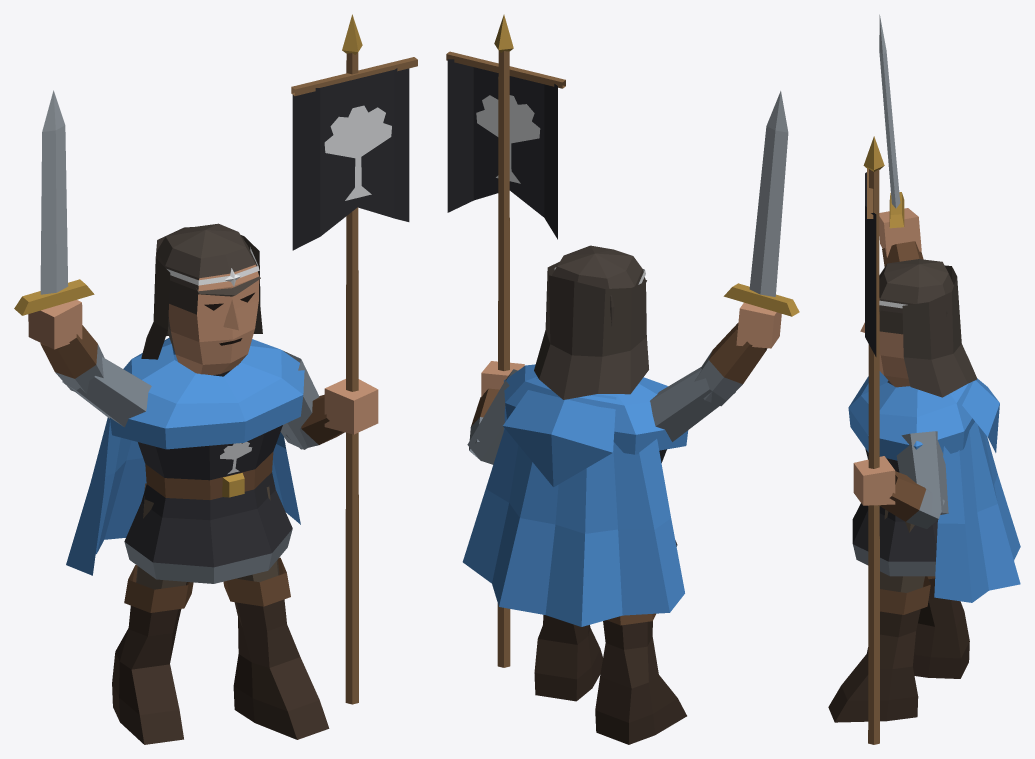
Rendered from aragorn.glb.
The picture shows the model from 3 angles, left to right: view 1: azimuth 30°, elevation 25°; view 2: azimuth 150°, elevation 25°; view 3: azimuth 270°, elevation 25°; orthographic projection. The views are drawn at different scales.
Visible parts, largest first — view 1: aragorn; view 2: aragorn; view 3: aragorn.
Part boxes in pixels (box(x1,y1,x2,y2)): aragorn: box(14, 14, 417, 744); aragorn: box(446, 14, 799, 744); aragorn: box(828, 14, 1020, 744).
Bounding box in the file's own units: 1.18 × 2.03 × 0.5838.
